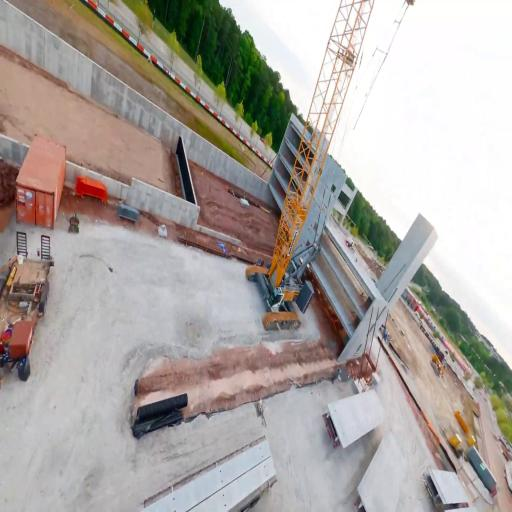uav: (217, 240, 227, 256)
